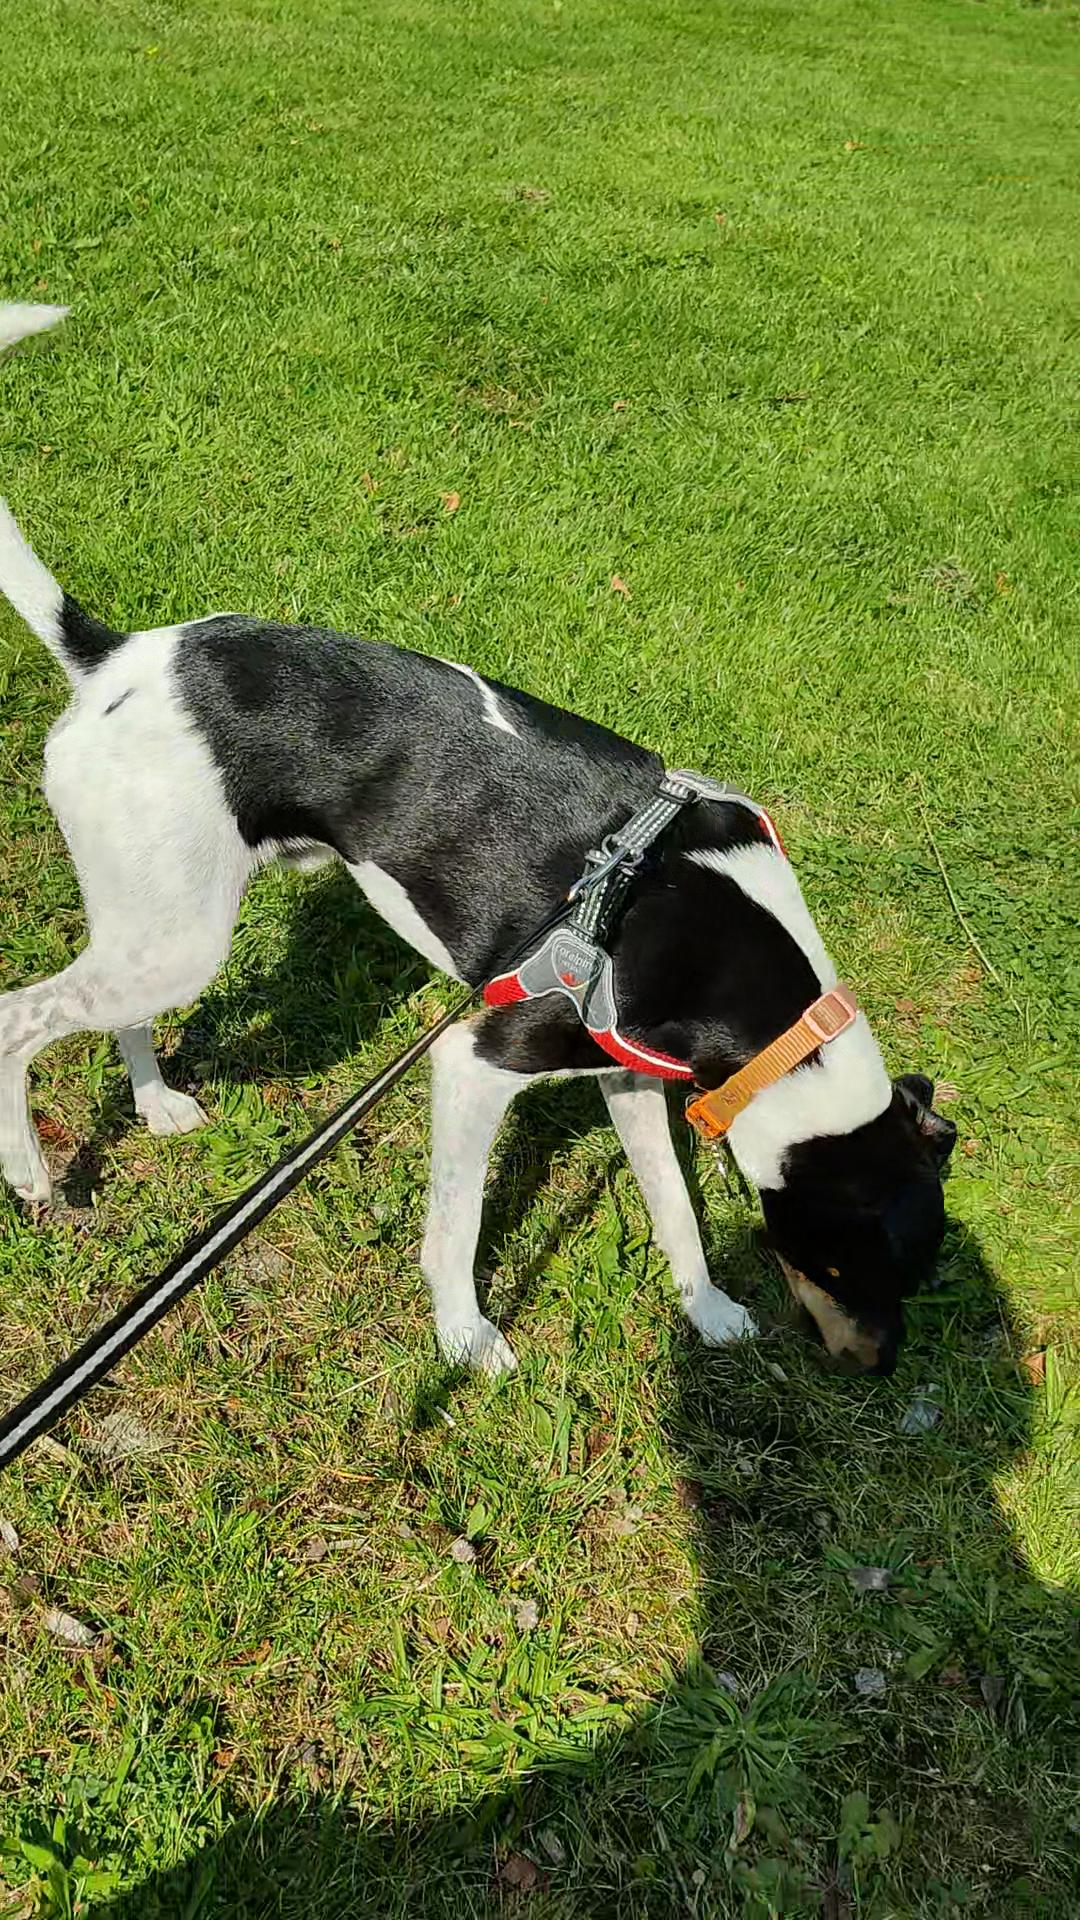Dog: (0, 287, 964, 1393)
